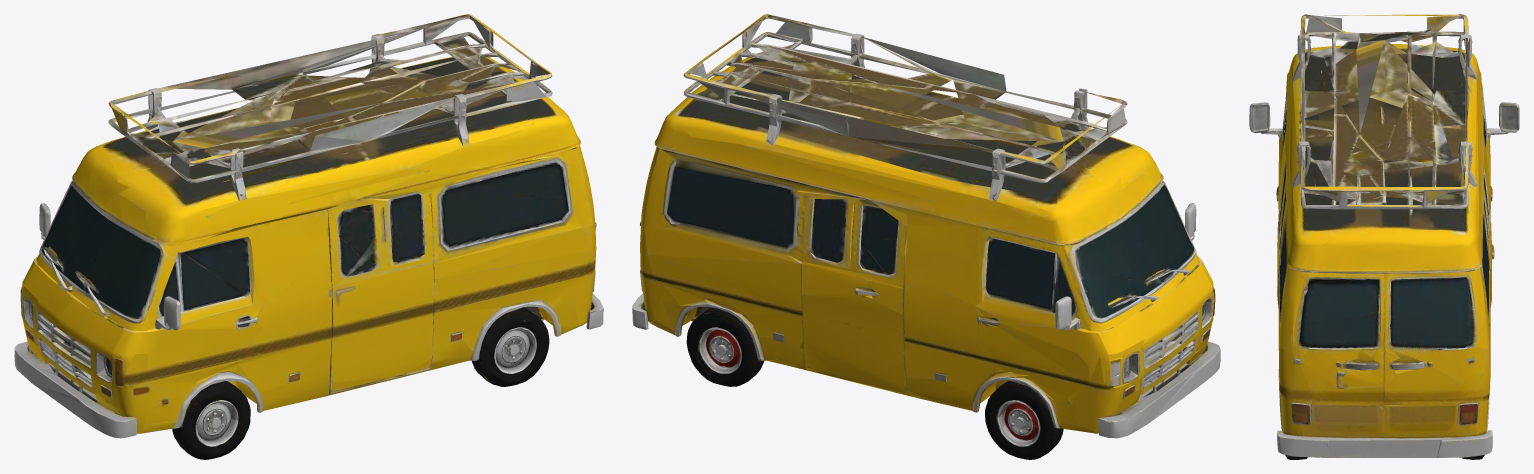
Rendered from danfo-shell-v1.glb.
3 renders of one model, left to right at view 1: azimuth 30°, elevation 25°; view 2: azimuth 150°, elevation 25°; view 3: azimuth 270°, elevation 25°, orthographic.
Bounding box in the file's own units: 1.9 × 1.07 × 0.9056.
Materials: 1 (1 with a texture image).
